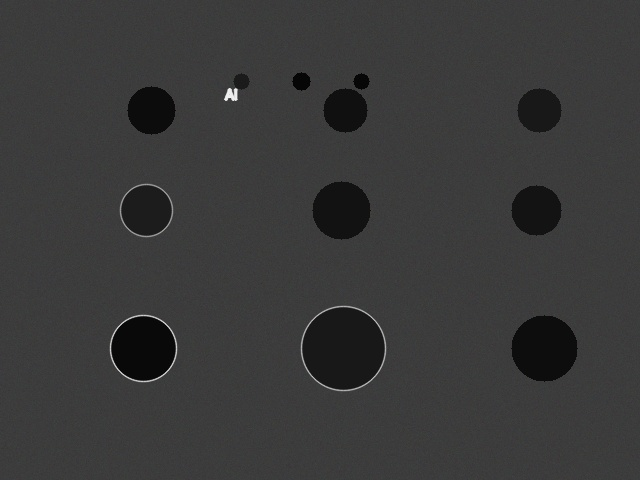hole: (301, 306, 385, 390), (110, 315, 176, 381), (511, 315, 577, 381), (312, 181, 370, 239), (120, 184, 172, 236), (511, 185, 561, 235), (127, 86, 175, 134), (323, 88, 367, 132), (517, 88, 561, 132), (292, 72, 310, 90), (233, 73, 249, 89), (353, 73, 369, 89)
